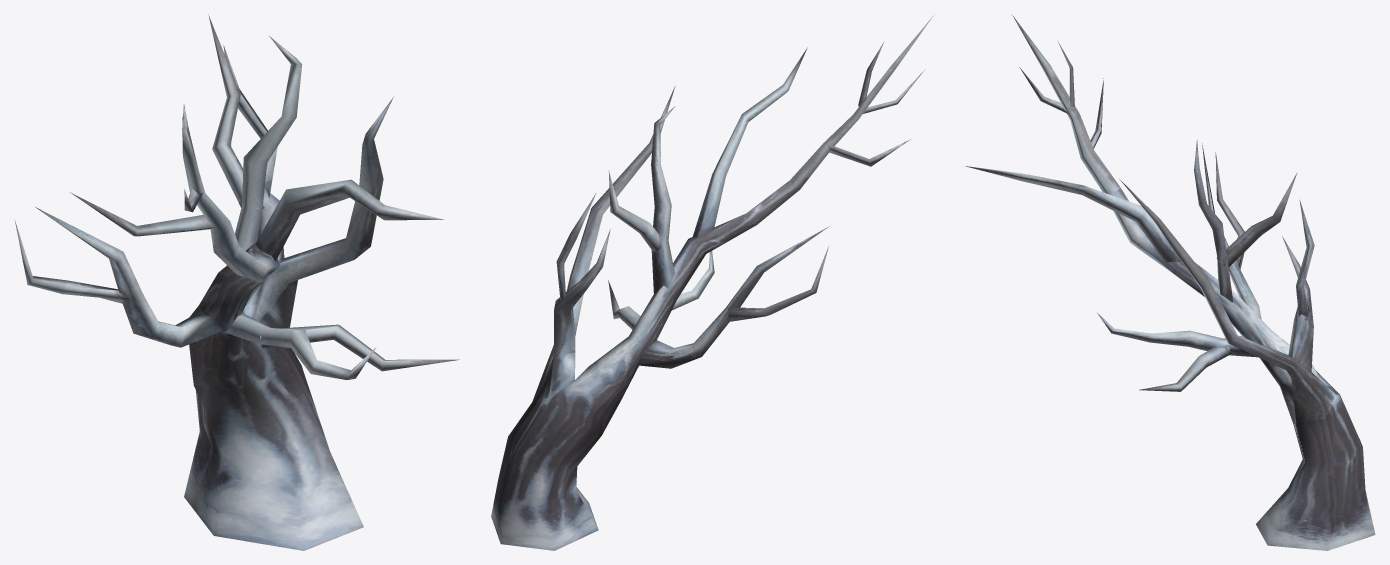
Rendered from SM_Dead_tree_01.fbx.
3 views of the same model, side by side, from view 1: azimuth 30°, elevation 25°; view 2: azimuth 150°, elevation 25°; view 3: azimuth 270°, elevation 25° (orthographic). The views are drawn at different scales.
Parts seen in each view (by area): view 1: SM_Dead_tree_01; view 2: SM_Dead_tree_01; view 3: SM_Dead_tree_01.
Part boxes in pixels (bbox=[...]): SM_Dead_tree_01: bbox=[15, 14, 459, 550]; SM_Dead_tree_01: bbox=[491, 14, 934, 550]; SM_Dead_tree_01: bbox=[965, 15, 1375, 550].
Bounding box in the file's own units: 4.3 × 6.08 × 5.5.
